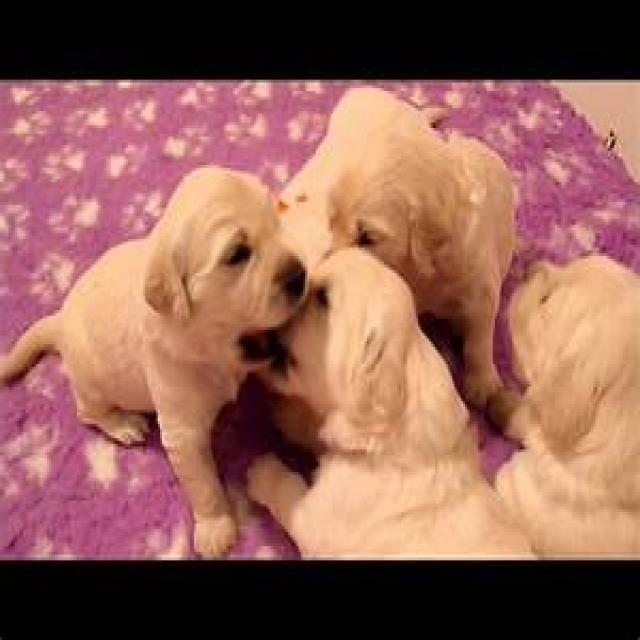animal: (0, 162, 307, 558), (276, 249, 528, 562), (322, 92, 512, 401), (494, 256, 640, 560)
